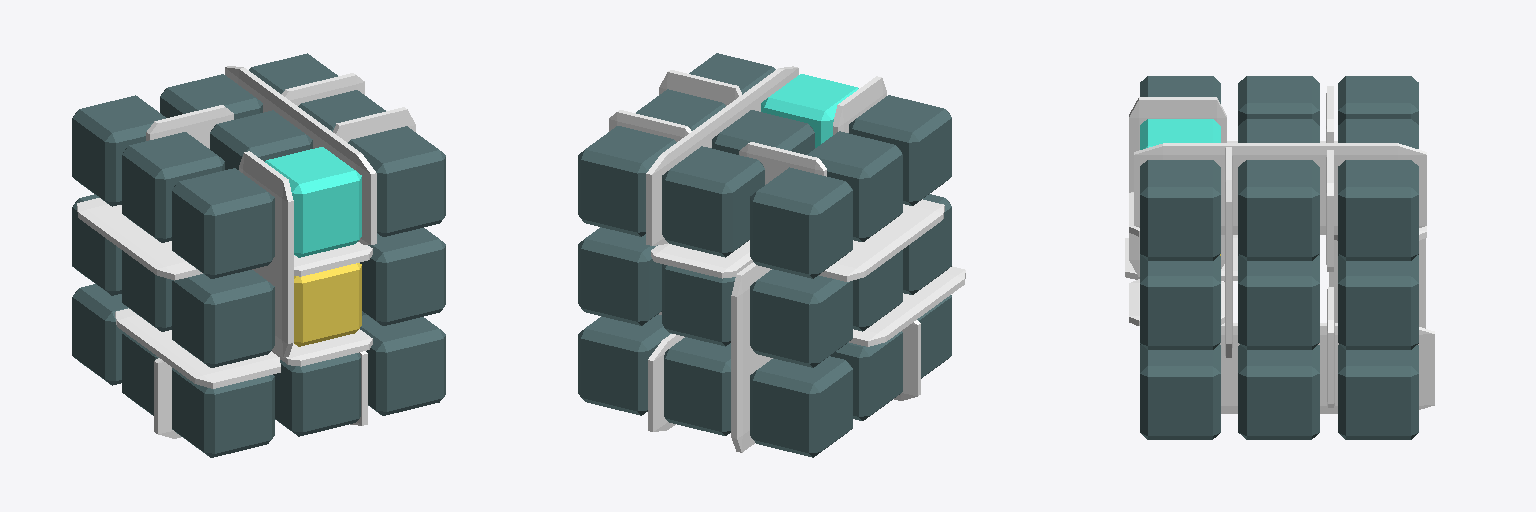
File: block.obj
3 renders of one model, left to right at view 1: azimuth 30°, elevation 25°; view 2: azimuth 150°, elevation 25°; view 3: azimuth 270°, elevation 25°, orthographic.
Visible parts, largest first — view 1: pasted__pasted__group5 pasted__group6 group7 pasted__pasted__pas, pasted__group6 group7 pasted__pasted__group4 pasted__pasted__pas, pasted__pasted__pasted__pasted__pasted__pasted__pasted__pasted__, pasted__group6 group7 pasted__pasted__group2 pasted__pasted__pas, pasted__group6 group7 pasted__pasted__pasted__pasted__pCube1 pas, pasted__pasted__pasted__pasted__pasted__pasted__pasted__pCube1 p, pasted__pasted__pasted__pasted__pasted__pCube1 pasted__pasted__p, pasted__pasted__pasted__group3 pasted__pasted__group5 pasted__gr, pasted__group6 group7 pasted__pasted__pasted__pasted__pasted__pC, pasted__group6 group7 pasted__pasted__pasted__pCube1 pasted__pas; view 2: pasted__pasted__group5 pasted__group6 group7 pasted__pasted__pas, pasted__pasted__pasted__pasted__pasted__pasted__pasted__pasted__, pasted__pasted__pasted__group3 pasted__pasted__group5 pasted__gr, pasted__group6 group7 pasted__pasted__pasted__group3 pasted__pas, pasted__group6 group7 pasted__pasted__group3 pasted__pasted__pas, pasted__group6 group7 pasted__pasted__pasted__pasted__pCube1 pas, pasted__pasted__pasted__pasted__pasted__pCube1 pasted__pasted__p, pasted__group6 group7 pasted__pasted__pasted__pasted__pasted__pC, pasted__group6 group7 pasted__pasted__group4 pasted__pasted__pas, pasted__pasted__pasted__pasted__pasted__pasted__pasted__pCube1 p, pasted__group6 group7 pasted__pasted__pasted__pCube1 pasted__pas; view 3: pasted__pasted__group5 pasted__group6 group7 pasted__pasted__pas, pasted__pasted__pasted__pasted__pasted__pasted__pasted__pasted__, pasted__group6 group7 pasted__pasted__group4 pasted__pasted__pas, pasted__pasted__pasted__group3 pasted__pasted__group5 pasted__gr, pasted__group6 group7 pasted__pasted__pasted__pCube1 pasted__pas, pasted__group6 group7 pasted__pasted__pasted__group3 pasted__pas, pasted__group6 group7 pasted__pasted__group3 pasted__pasted__pas, pasted__group6 group7 pasted__pasted__group2 pasted__pasted__pas, pasted__pasted__pasted__pasted__pasted__pasted__pasted__pCube1 p, pasted__pasted__pasted__pasted__pasted__pCube1 pasted__pasted__p.
Part boxes in pixels (x1,y1,x2,y2): pasted__pasted__group5 pasted__group6 group7 pasted__pasted__pas: (122,90,445,278); pasted__group6 group7 pasted__pasted__group4 pasted__pasted__pas: (122,312,445,457); pasted__pasted__pasted__pasted__pasted__pasted__pasted__pasted__: (77,66,415,438); pasted__group6 group7 pasted__pasted__group2 pasted__pasted__pas: (294,228,445,346); pasted__group6 group7 pasted__pasted__pasted__pasted__pCube1 pas: (72,194,274,367); pasted__pasted__pasted__pasted__pasted__pasted__pasted__pCube1 p: (239,73,364,357); pasted__pasted__pasted__pasted__pasted__pCube1 pasted__pasted__p: (72,95,165,206); pasted__pasted__pasted__group3 pasted__pasted__group5 pasted__gr: (160,53,337,119); pasted__group6 group7 pasted__pasted__pasted__pasted__pasted__pC: (72,284,127,385); pasted__group6 group7 pasted__pasted__pasted__pCube1 pasted__pas: (122,250,171,331); pasted__pasted__group5 pasted__group6 group7 pasted__pasted__pas: (636,53,951,241); pasted__pasted__pasted__pasted__pasted__pasted__pasted__pasted__: (646,66,965,452); pasted__pasted__pasted__group3 pasted__pasted__group5 pasted__gr: (578,126,764,257); pasted__group6 group7 pasted__pasted__pasted__group3 pasted__pas: (578,314,730,435); pasted__group6 group7 pasted__pasted__group3 pasted__pasted__pas: (578,227,735,346); pasted__group6 group7 pasted__pasted__pasted__pasted__pCube1 pas: (750,194,951,367); pasted__pasted__pasted__pasted__pasted__pCube1 pasted__pasted__p: (750,167,852,278); pasted__group6 group7 pasted__pasted__pasted__pasted__pasted__pC: (750,356,852,457); pasted__group6 group7 pasted__pasted__group4 pasted__pasted__pas: (831,295,951,420); pasted__pasted__pasted__pasted__pasted__pasted__pasted__pCube1 p: (609,76,886,278); pasted__group6 group7 pasted__pasted__pasted__pCube1 pasted__pas: (853,250,902,331); pasted__pasted__group5 pasted__group6 group7 pasted__pasted__pas: (1140,76,1319,260); pasted__pasted__pasted__pasted__pasted__pasted__pasted__pasted__: (1125,86,1434,413); pasted__group6 group7 pasted__pasted__group4 pasted__pasted__pas: (1140,344,1319,439); pasted__pasted__pasted__group3 pasted__pasted__group5 pasted__gr: (1338,119,1418,260); pasted__group6 group7 pasted__pasted__pasted__pCube1 pasted__pas: (1238,255,1319,349); pasted__group6 group7 pasted__pasted__pasted__group3 pasted__pas: (1338,344,1418,439); pasted__group6 group7 pasted__pasted__group3 pasted__pasted__pas: (1338,254,1418,349); pasted__group6 group7 pasted__pasted__group2 pasted__pasted__pas: (1140,254,1220,349); pasted__pasted__pasted__pasted__pasted__pasted__pasted__pCube1 p: (1129,97,1426,276); pasted__pasted__pasted__pasted__pasted__pCube1 pasted__pasted__p: (1338,76,1418,124).
Size of the model in its own units: 3.89 by 3.72 by 3.81.